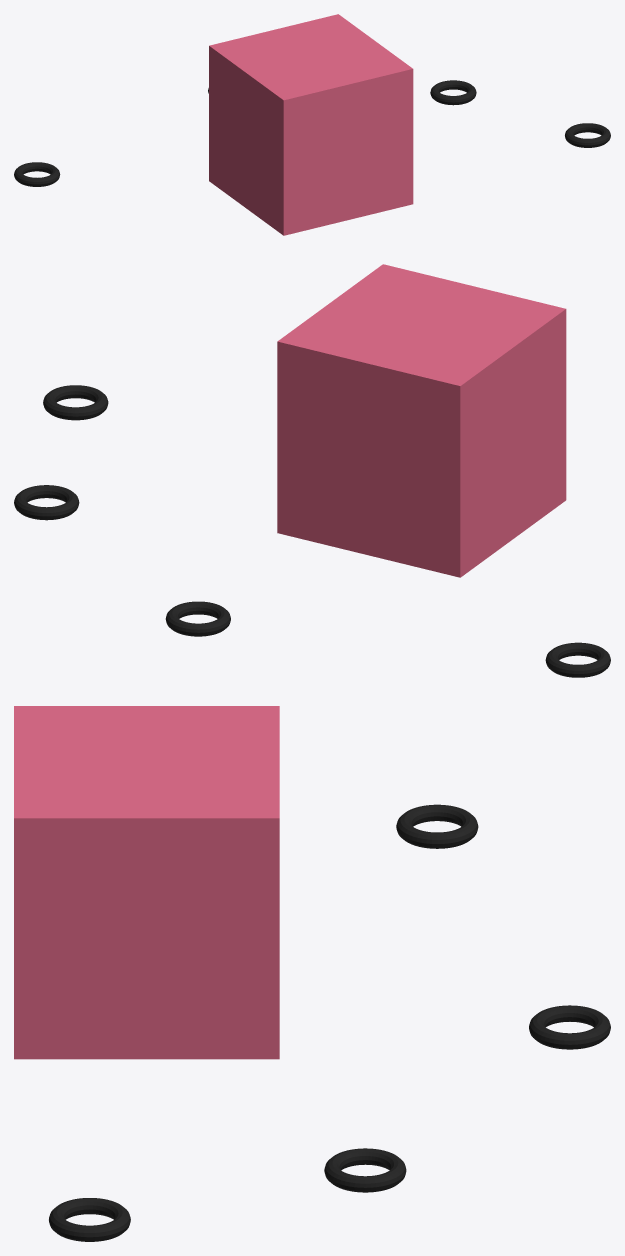
Rendered from testCube_v2a1.gltf.
3 renders of one model, top to bottom at view 1: azimuth 30°, elevation 25°; view 2: azimuth 150°, elevation 25°; view 3: azimuth 270°, elevation 25°, orthographic. The views are drawn at different scales.
Visible parts, largest first — view 1: testCube-interactive, Torus, Torus.002, Torus.001; view 2: testCube-interactive, Torus.003, Torus, Torus.002, Torus.001; view 3: testCube-interactive, Torus.001, Torus, Torus.002, Torus.003.
Part boxes in pixels (x1,y1,x2,y2): testCube-interactive: (209, 14, 413, 235); Torus: (565, 123, 610, 147); Torus.002: (14, 162, 60, 186); Torus.001: (430, 80, 476, 105); testCube-interactive: (277, 264, 566, 577); Torus.003: (165, 601, 230, 636); Torus: (43, 385, 108, 420); Torus.002: (545, 642, 610, 677); Torus.001: (14, 485, 79, 520); testCube-interactive: (14, 706, 279, 1059); Torus.001: (324, 1148, 406, 1192); Torus: (49, 1198, 130, 1241); Torus.002: (396, 804, 478, 848); Torus.003: (529, 1005, 610, 1049).
Size of the model in its own units: 7.62 by 2 by 4.49.
